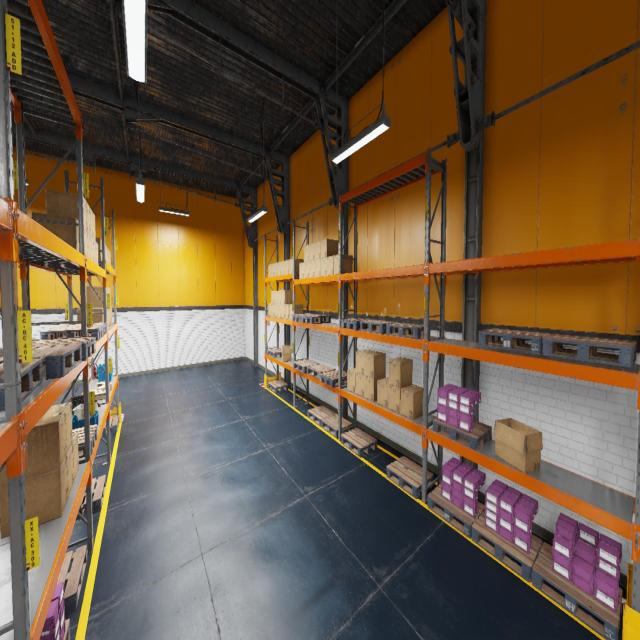box: (0, 456, 68, 538), (0, 411, 67, 485), (493, 418, 542, 473), (32, 212, 79, 251), (46, 189, 88, 231), (45, 402, 72, 453), (400, 384, 423, 420), (389, 357, 412, 388), (388, 384, 411, 414), (77, 308, 103, 332), (364, 351, 386, 379), (364, 376, 386, 402), (356, 349, 375, 375), (86, 286, 107, 307), (66, 443, 74, 497), (334, 254, 352, 274), (72, 432, 79, 482), (321, 239, 338, 258), (378, 377, 388, 408), (289, 258, 303, 274), (355, 373, 364, 397), (289, 304, 303, 319), (348, 368, 356, 393), (280, 346, 292, 362), (281, 290, 293, 304), (97, 381, 110, 393), (96, 237, 102, 261), (84, 228, 88, 258), (327, 255, 333, 275), (285, 304, 292, 319), (90, 236, 94, 262), (315, 240, 320, 260), (87, 202, 90, 235), (96, 381, 108, 389), (315, 258, 320, 277), (321, 257, 326, 276), (90, 207, 93, 238), (95, 391, 105, 400), (101, 382, 112, 390), (304, 244, 309, 261), (304, 261, 309, 278), (88, 232, 91, 260), (299, 262, 304, 278), (310, 242, 314, 261), (93, 239, 96, 263), (310, 260, 314, 277), (93, 212, 95, 241), (281, 304, 285, 318), (274, 290, 278, 304), (285, 260, 289, 274), (281, 260, 285, 274), (274, 262, 278, 276), (274, 304, 278, 317), (90, 388, 102, 392), (96, 242, 98, 265), (278, 304, 281, 318), (278, 290, 281, 304), (278, 261, 281, 275), (268, 303, 271, 316), (271, 263, 274, 276), (268, 264, 271, 277), (107, 309, 109, 327), (109, 288, 111, 306), (271, 304, 274, 316), (271, 291, 274, 303), (108, 249, 110, 265), (109, 250, 111, 266), (110, 306, 111, 325), (111, 306, 112, 324), (106, 245, 107, 262), (109, 309, 110, 326), (105, 244, 106, 260), (107, 247, 108, 263), (107, 288, 108, 294), (108, 288, 109, 294), (107, 309, 107, 327)
pallets: (532, 542, 622, 640), (471, 510, 543, 582), (542, 333, 636, 368), (427, 483, 485, 538), (0, 344, 82, 379), (0, 336, 96, 361), (56, 545, 87, 616), (0, 358, 42, 410), (386, 456, 434, 499), (432, 418, 492, 450), (479, 328, 552, 354), (76, 474, 106, 520), (341, 428, 377, 457), (40, 325, 103, 340), (72, 424, 98, 458), (52, 323, 106, 337), (321, 414, 352, 438), (386, 323, 430, 339), (307, 405, 336, 426), (360, 320, 400, 334), (319, 370, 347, 388), (341, 318, 377, 330), (307, 364, 335, 379), (101, 415, 119, 436), (293, 359, 319, 373), (302, 314, 331, 324), (291, 313, 319, 322), (268, 380, 288, 392), (63, 620, 70, 640), (267, 348, 281, 357)
